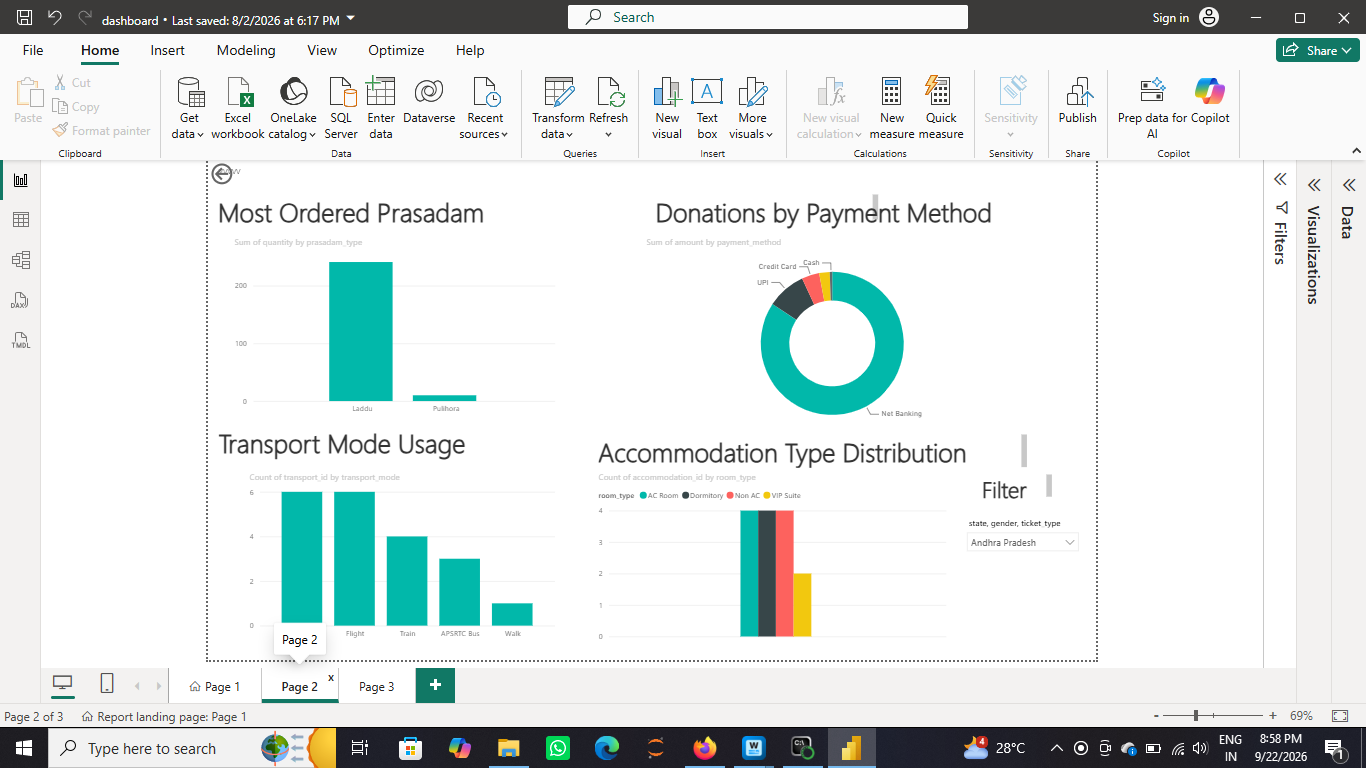

Layout of this report page (visuals, bound fields, positions):
{"tool":"powerbi","page":{"name":"Page 2","canvas":[1280,720],"ordinal":1},"visuals":[{"type":"textbox","box":[10,0,280,280],"z":0},{"type":"textbox","box":[10,45,960,51.7],"z":1000},{"type":"columnChart","fields":{"Category":["prasadam_orders.prasadam_type"],"Y":["Sum(prasadam_orders.quantity)"]},"box":[33.3,110,471.7,266.7],"z":2000},{"type":"textbox","box":[640,45,580,65],"z":3000},{"type":"donutChart","fields":{"Category":["donations.payment_method"],"Y":["Sum(donations.amount)"]},"box":[626.7,110,545,293.3],"z":4000},{"type":"textbox","box":[10,376.7,450,60],"z":5000},{"type":"clusteredColumnChart","fields":{"Category":["transport.transport_mode"],"Y":["CountNonNull(transport.transport_id)"]},"box":[55,448.3,450,251.7],"z":6000},{"type":"textbox","box":[556.7,390,626.7,58.3],"z":7000},{"type":"clusteredColumnChart","fields":{"Y":["CountNonNull(accommodation.accommodation_id)"],"Series":["accommodation.room_type"]},"box":[557.7,448.5,510.7,252],"z":8000},{"type":"slicer","fields":{"Values":["pilgrims.state","pilgrims.gender","darshan_bookings(1).ticket_type"]},"box":[1083.5,509,181.4,191.5],"z":9000},{"type":"actionButton","box":[0,0,100,40],"z":10000},{"type":"textbox","box":[1110,448.3,110,46.7],"z":11000}]}

Visuals, with their boxes on the page's 1280x720 design canvas (x1, y1, x2, y2). These are canvas units, not pixel positions in the 1366x768 screenshot, which may show the page scaled, cropped or inside an application window:
textbox: BBox(10, 0, 290, 280)
textbox: BBox(10, 45, 970, 97)
columnChart - prasadam_orders.prasadam_type x Sum(prasadam_orders.quantity): BBox(33, 110, 505, 377)
textbox: BBox(640, 45, 1220, 110)
donutChart - donations.payment_method x Sum(donations.amount): BBox(627, 110, 1172, 403)
textbox: BBox(10, 377, 460, 437)
clusteredColumnChart - transport.transport_mode x CountNonNull(transport.transport_id): BBox(55, 448, 505, 700)
textbox: BBox(557, 390, 1183, 448)
clusteredColumnChart - CountNonNull(accommodation.accommodation_id) x accommodation.room_type: BBox(558, 448, 1068, 700)
slicer - pilgrims.state x pilgrims.gender: BBox(1084, 509, 1265, 700)
actionButton: BBox(0, 0, 100, 40)
textbox: BBox(1110, 448, 1220, 495)
